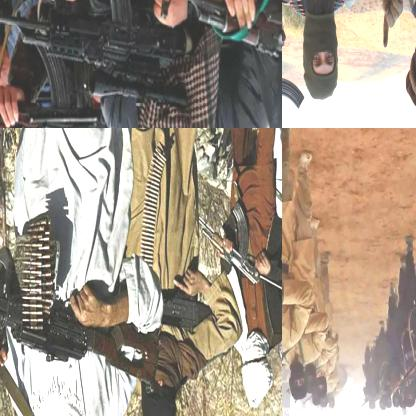rifle: (0, 237, 161, 393), (0, 0, 194, 70), (0, 38, 114, 127), (156, 0, 281, 76), (198, 198, 281, 304), (282, 27, 305, 127)
